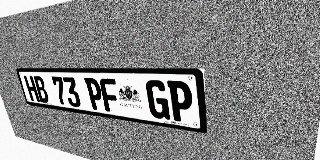3: (62, 77, 82, 108)
7: (50, 76, 69, 106)
B: (33, 76, 50, 103)
F: (99, 78, 121, 113)
G: (145, 80, 170, 120)
H: (23, 76, 40, 102)
P: (167, 81, 194, 123), (84, 78, 105, 111)
